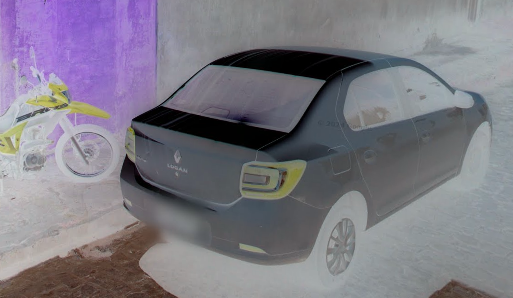car: (117, 44, 496, 282)
